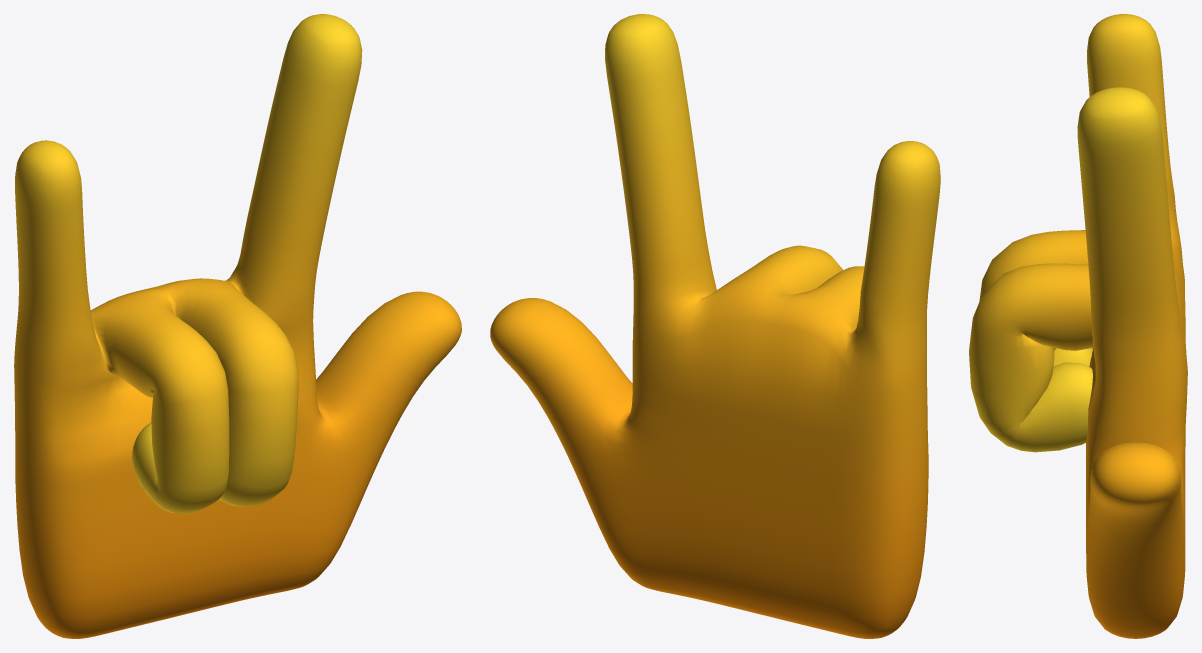
File: love-you_gesture.fbx
3 views of the same model, side by side, from view 1: azimuth 30°, elevation 25°; view 2: azimuth 150°, elevation 25°; view 3: azimuth 270°, elevation 25° (orthographic).
Parts seen in each view (by area): view 1: Cube.090; view 2: Cube.090; view 3: Cube.090.
Boxes of the visible parts, box(x1,y1,x2,y2) form: Cube.090: box(14, 14, 461, 638); Cube.090: box(490, 14, 940, 638); Cube.090: box(969, 14, 1187, 638).
Size of the model in its own units: 154 by 189 by 66.85.
2 materials, 2 textured.
